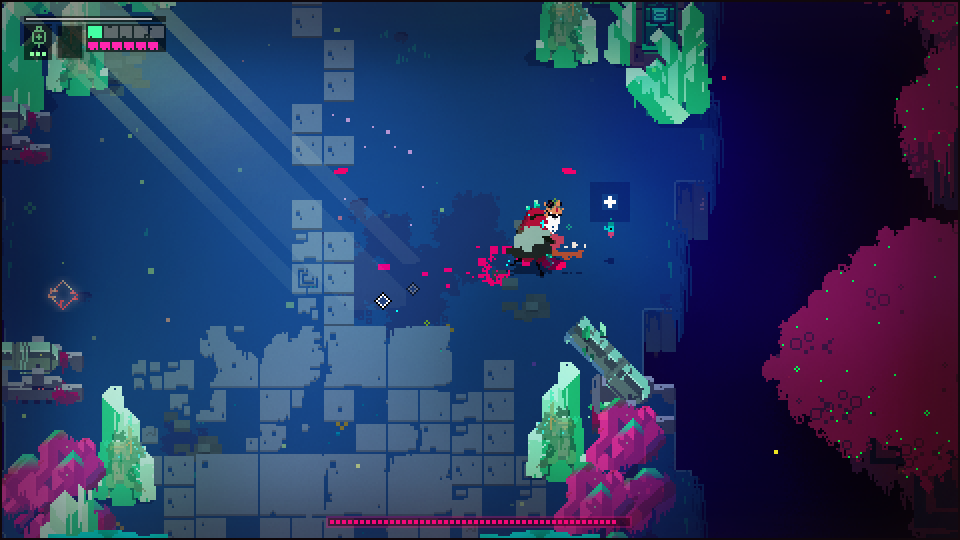hanged_man: (497, 197, 578, 279)
